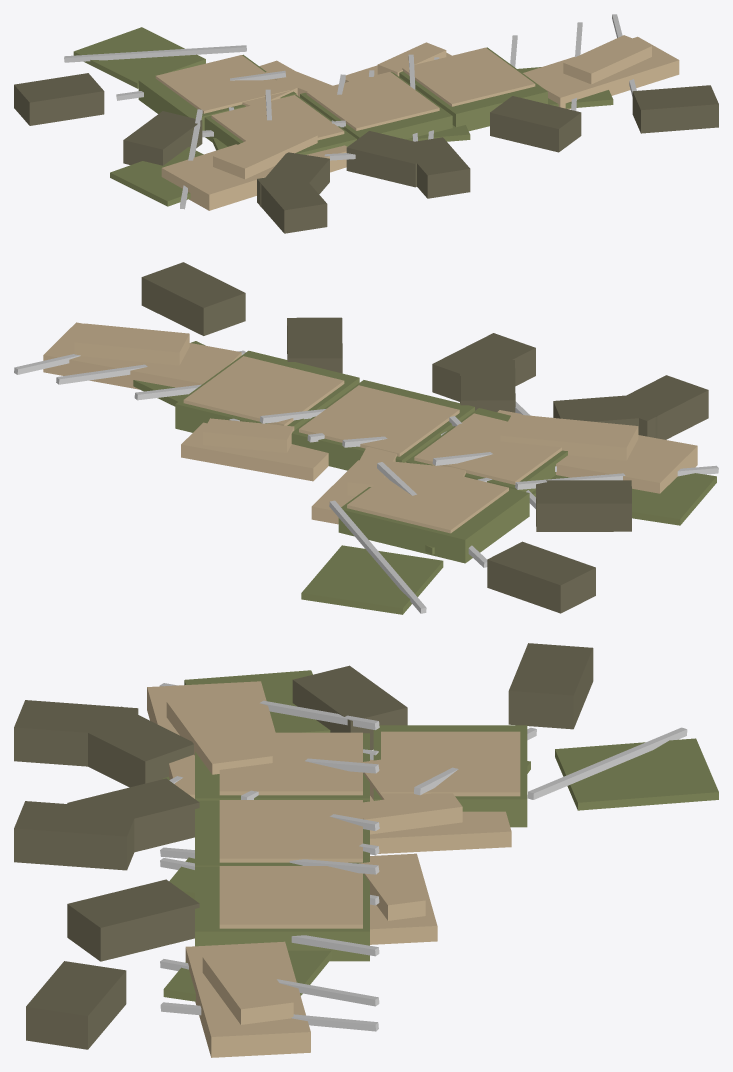
File: SM_HescoRemate_v3_RemateSacos_e3_Brecha_LOD0.fbx
The picture shows the model from 3 angles, top to bottom: view 1: azimuth 30°, elevation 25°; view 2: azimuth 150°, elevation 25°; view 3: azimuth 270°, elevation 25°; orthographic projection. The views are drawn at different scales.
Visible parts, largest first — view 1: SM_hesco_piezas_v35_LOD0; view 2: SM_hesco_piezas_v35_LOD0; view 3: SM_hesco_piezas_v35_LOD0.
Part boxes in pixels (x1,y1,x2,y2): SM_hesco_piezas_v35_LOD0: (14,14,718,233); SM_hesco_piezas_v35_LOD0: (14,262,718,614); SM_hesco_piezas_v35_LOD0: (14,643,718,1057).
Bounding box in the file's own units: 6.29 × 0.3263 × 4.92.
